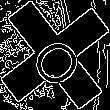O_NE: (21, 22, 89, 88)
